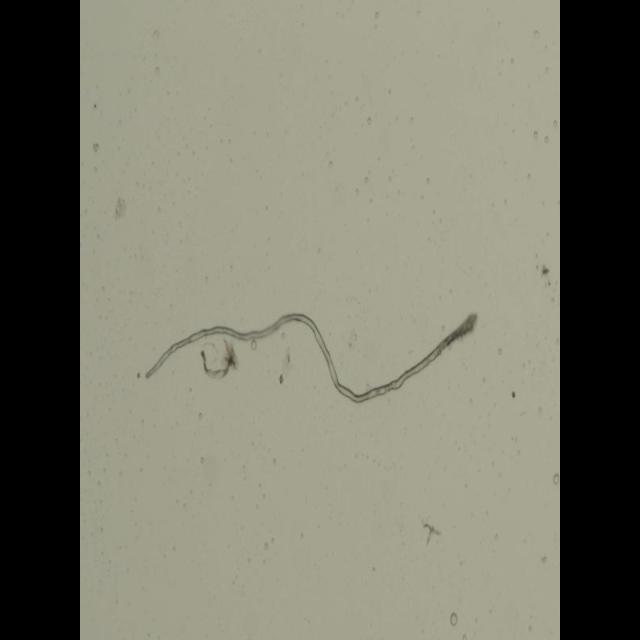Fibre: (145, 309, 478, 403)
